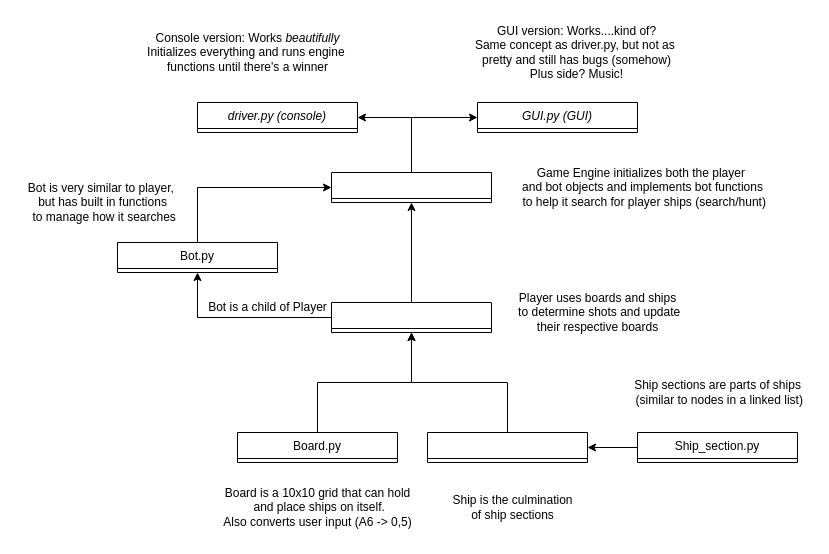
The diagram is 829 pixels wide and 554 high, and some of its shapes have lost their labels. The box of each missing label's shape, as (x1, y1, x2, y2) in pixels:
Game_engine.py: (330, 172, 492, 202)
Player.py: (330, 302, 492, 332)
Ship.py: (426, 432, 588, 462)
